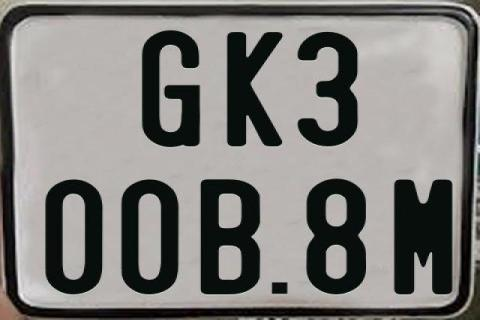0: (297, 30, 361, 148), (43, 177, 107, 293), (306, 176, 367, 293), (118, 179, 178, 295)
B: (197, 179, 262, 296)
G: (139, 30, 203, 150)
K: (226, 29, 285, 149)
M: (394, 178, 455, 294)
